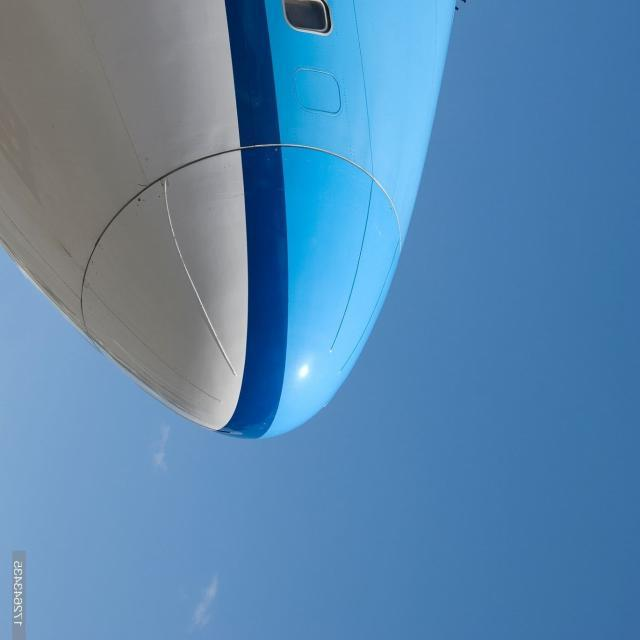crack: (136, 179, 155, 195)
